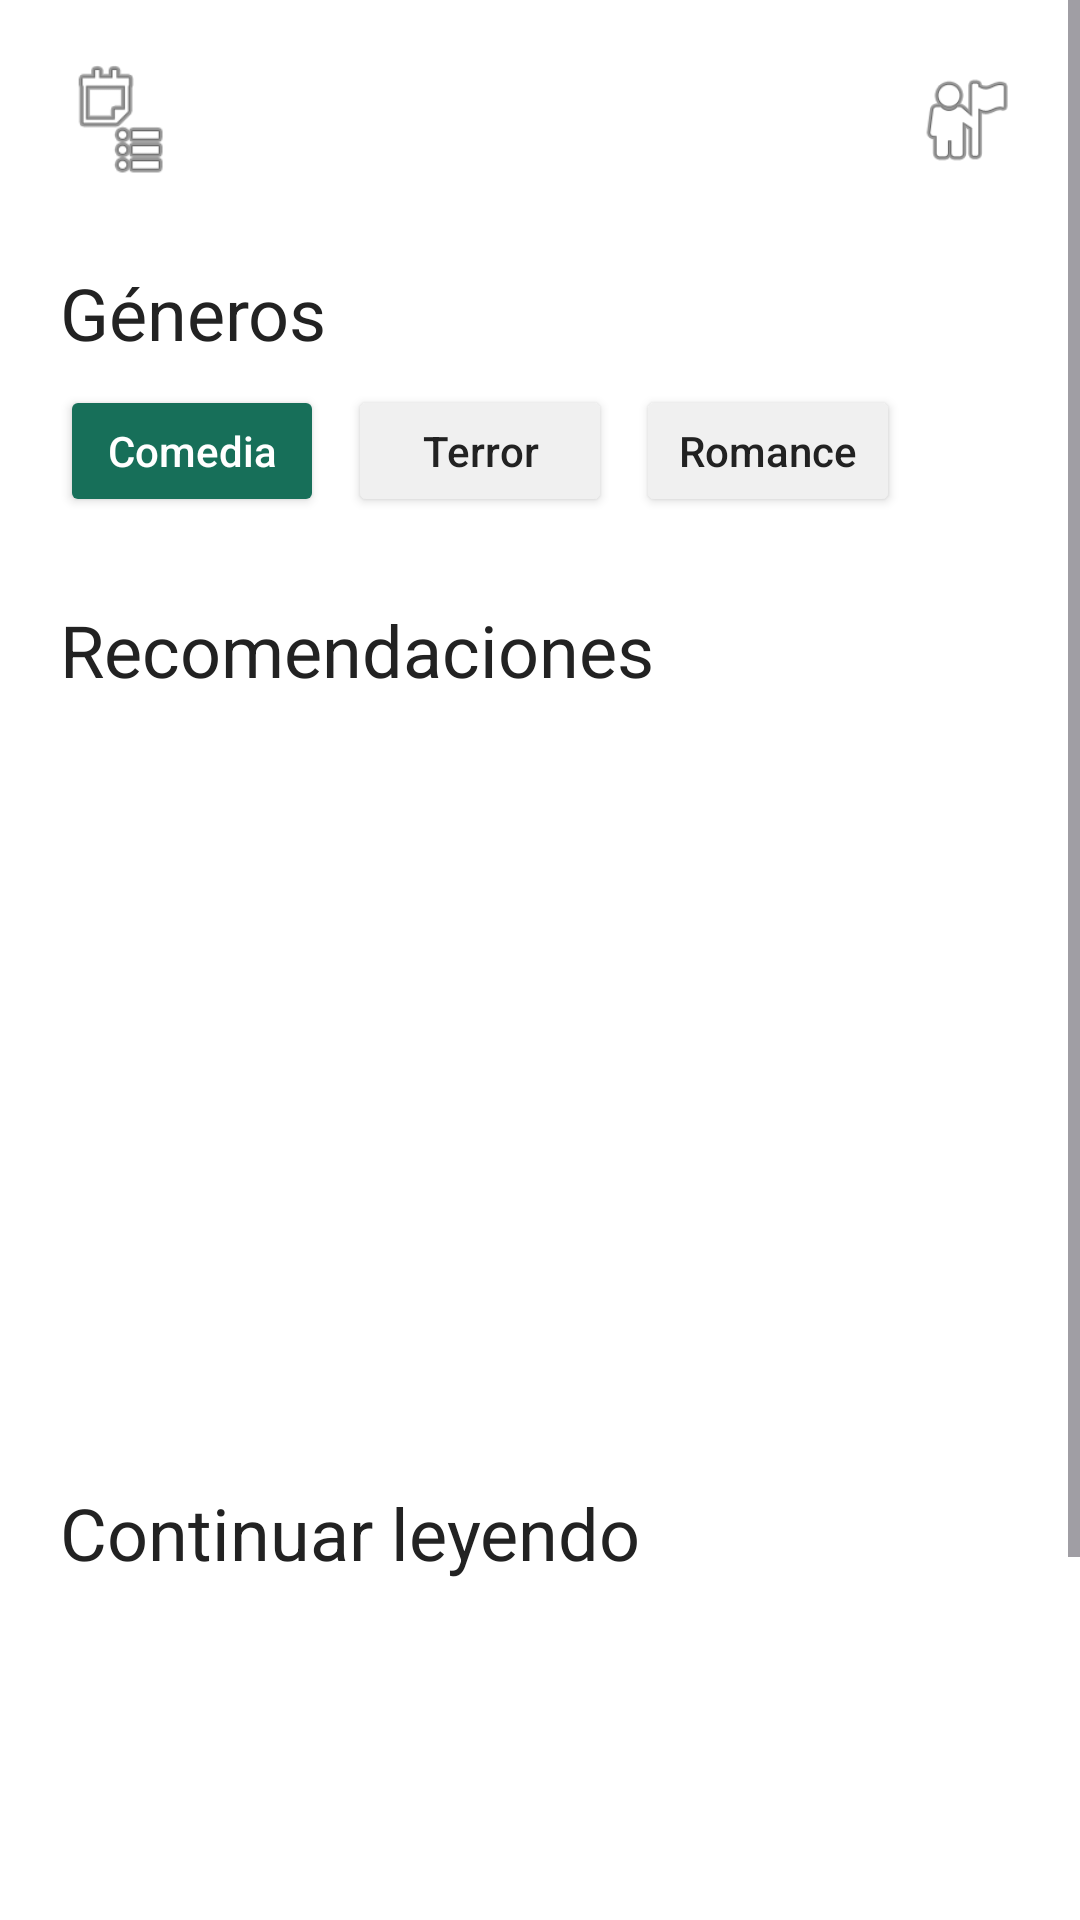

Icon click points for this 1080 × 1920 phone screenshot, format point (x, y):
Perfil de usuario: point (967, 120)
